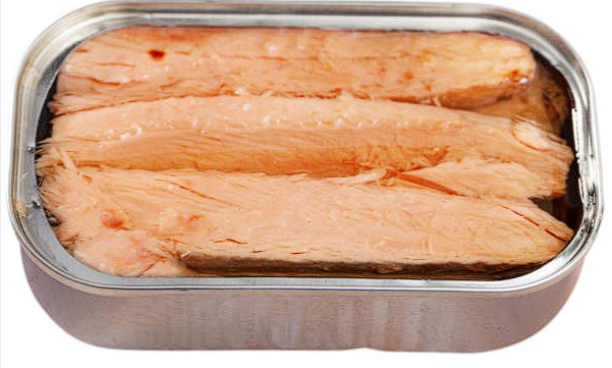Danificado: (16, 7, 612, 297)
